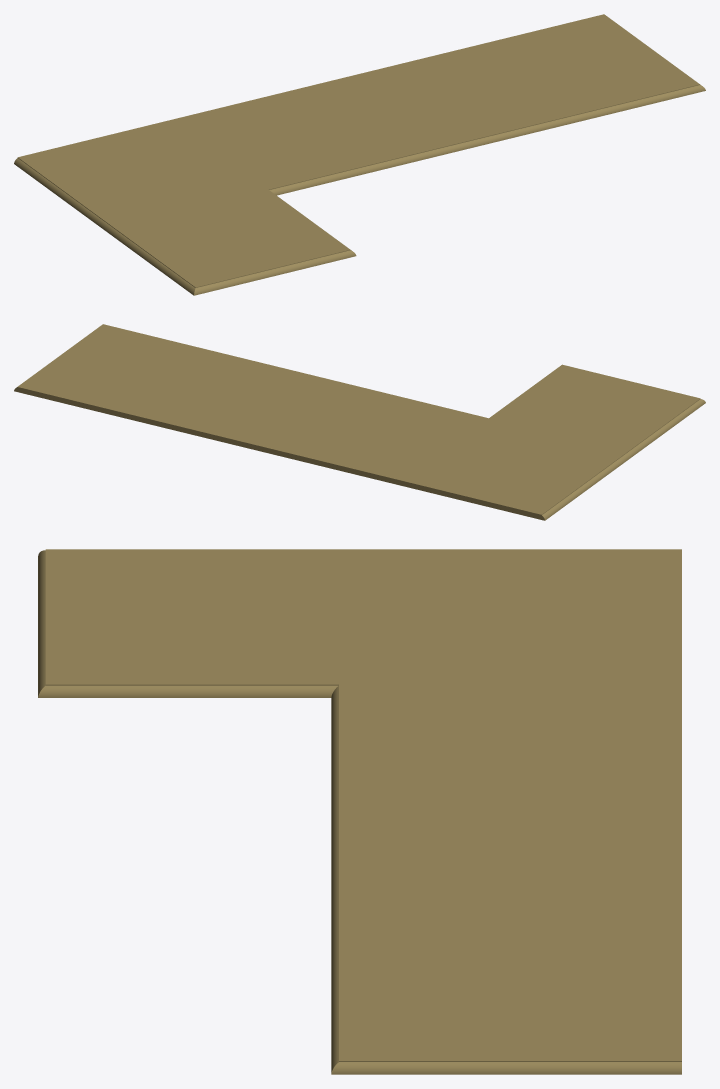
File: original-20.obj
3 renders of one model, top to bottom at view 1: azimuth 30°, elevation 25°; view 2: azimuth 150°, elevation 25°; view 3: azimuth 270°, elevation 25°, orthographic. The views are drawn at different scales.
Parts seen in each view (by area): view 1: Group11/mesh34/mesh34-geometry#mesh34-geometry; view 2: Group11/mesh34/mesh34-geometry#mesh34-geometry; view 3: Group11/mesh34/mesh34-geometry#mesh34-geometry.
Boxes of the visible parts, x1,y1,x2,y2 form: Group11/mesh34/mesh34-geometry#mesh34-geometry: [14, 14, 705, 295]; Group11/mesh34/mesh34-geometry#mesh34-geometry: [14, 324, 705, 520]; Group11/mesh34/mesh34-geometry#mesh34-geometry: [38, 549, 681, 1074].
Size of the model in its own units: 1.6 by 0.015 by 0.8393.
